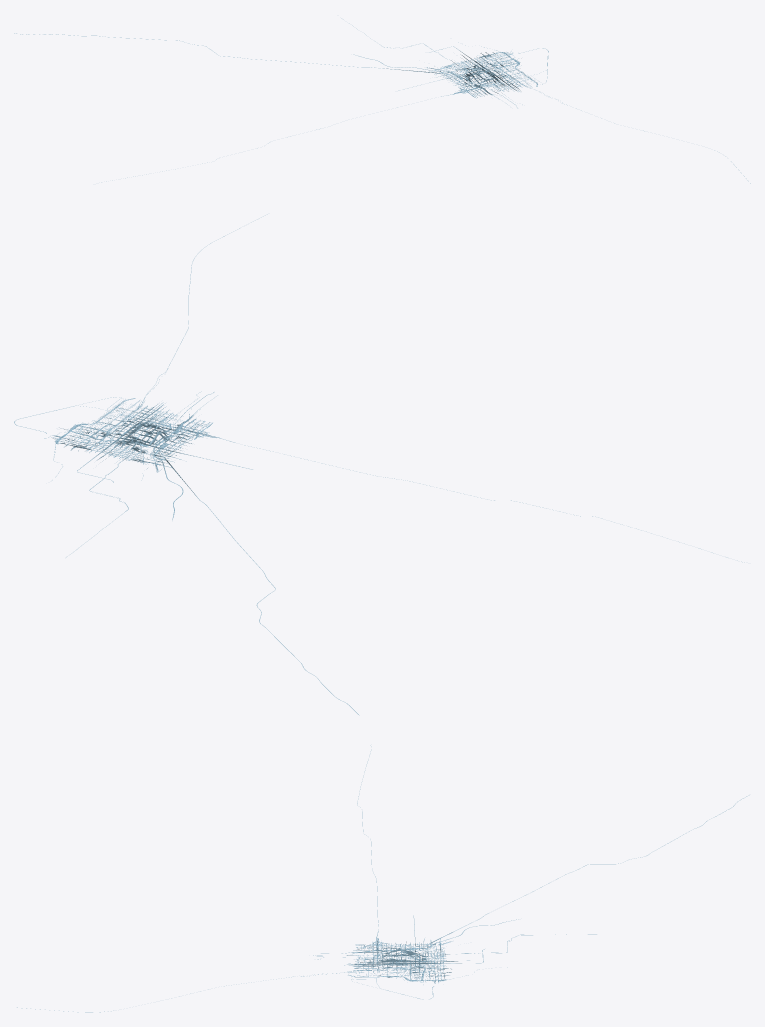
Rendered from roads.glb.
3 views of the same model, one above another, from view 1: azimuth 30°, elevation 25°; view 2: azimuth 150°, elevation 25°; view 3: azimuth 270°, elevation 25° (orthographic). The views are drawn at different scales.
Visible parts, largest first — view 1: roads; view 2: roads; view 3: roads.
Part boxes in pixels (x1=…): roads: x1=14, y1=18, x2=750, y2=183; roads: x1=14, y1=214, x2=744, y2=715; roads: x1=17, y1=745, x2=749, y2=1012.
Size of the model in its own units: 18890 by 166 by 21953.
